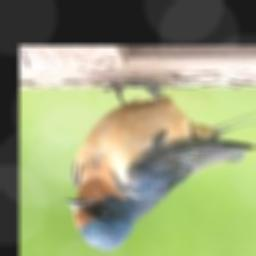Swallow: (65, 85, 256, 251)
